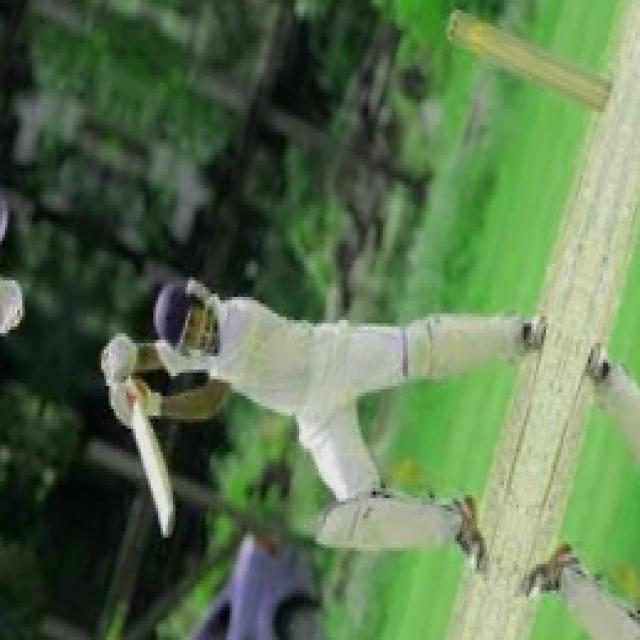bat: (128, 408, 191, 540)
toe: (160, 509, 176, 540)
